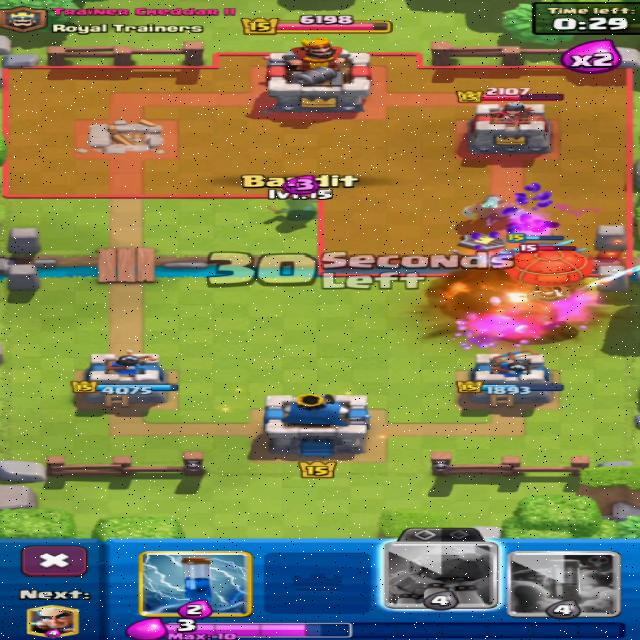Enemy-Balloon: (506, 247, 597, 300)
Enemy-KingTower-Activated: (267, 38, 369, 112)
Enemy-PrincessTower: (467, 101, 550, 153)
Player-KingTower: (262, 393, 370, 456)
Player-PrincessTower: (71, 350, 177, 406), (458, 348, 562, 405)
Player-RoyalGhost-Minion-Invisible: (464, 196, 522, 226)
